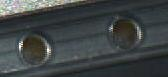joints: (104, 12, 145, 51), (16, 29, 53, 66)
